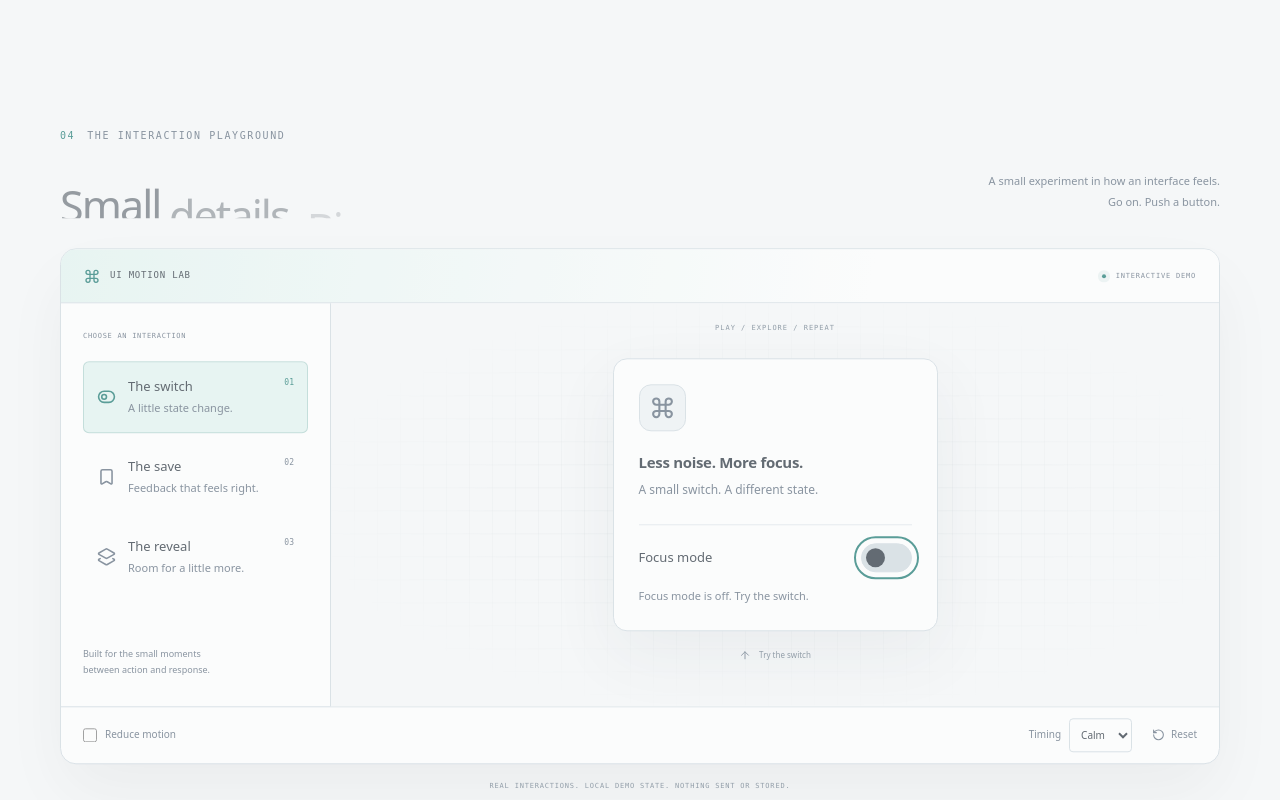
Test: focus switch works with the keyboard and reset restores its state
The width and height of the screenshot is (1280, 800).
Type keys "[Space]"
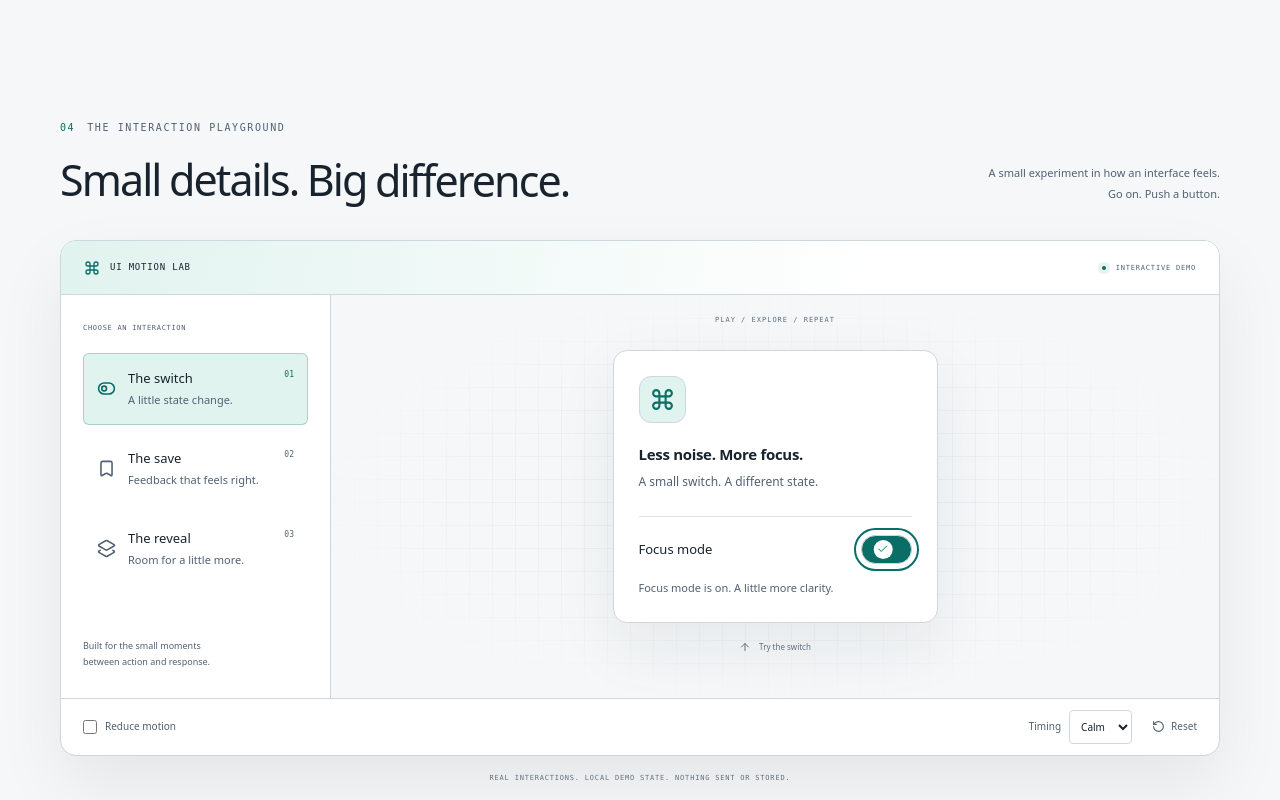
Expected: the switch named "Focus mode" is checked, top-left (860, 535), bottom-right (912, 564)
Expected: the message shows "Focus mode is on", top-left (638, 580), bottom-right (834, 595)
Click the button "Reset" at (1175, 727), box top-left (1152, 708), bottom-right (1197, 746)
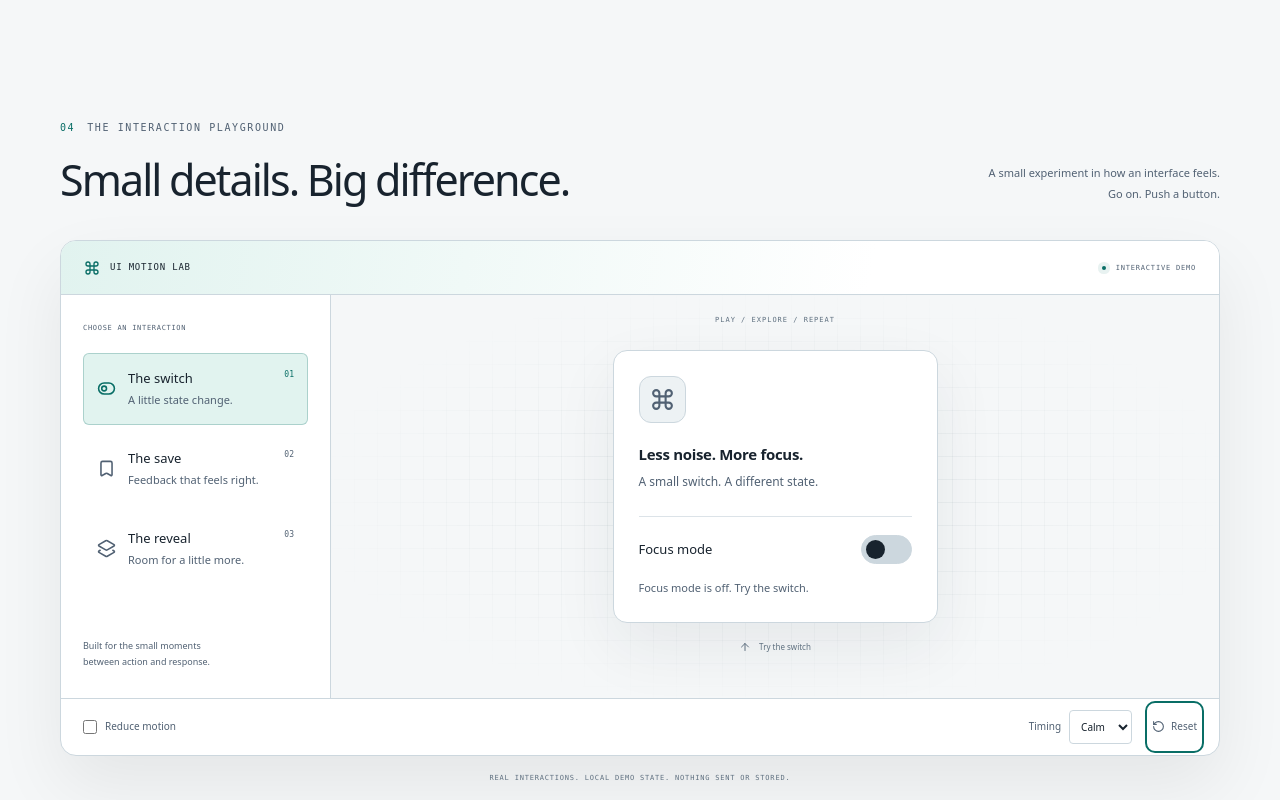
Expected: the switch named "Focus mode" is not checked, top-left (860, 535), bottom-right (912, 564)
